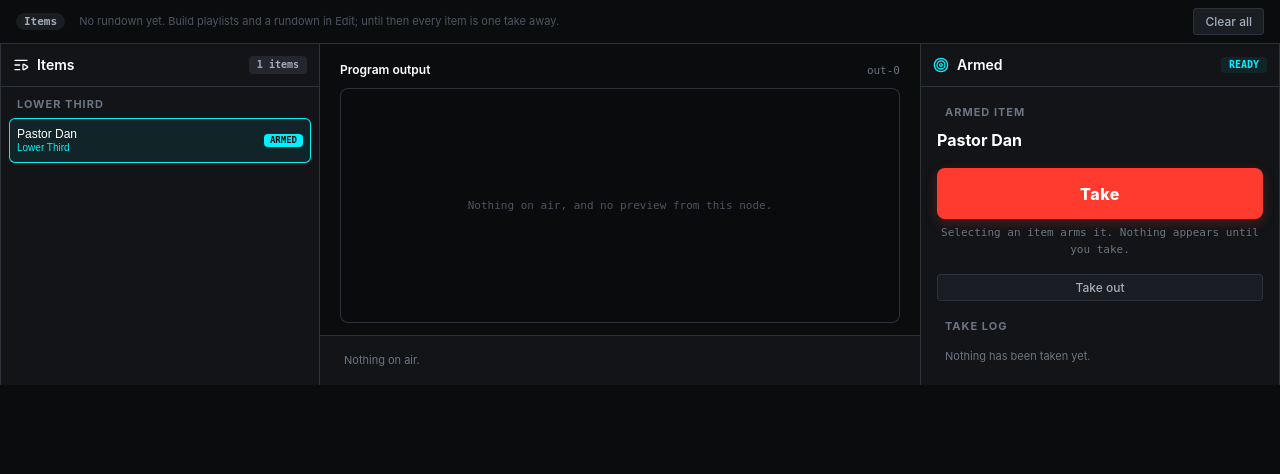
Test case: the take button › renders a 503 as the words the server sent
Click the button "Take".
click(1100, 194)  # box 937,168 -> 1263,219
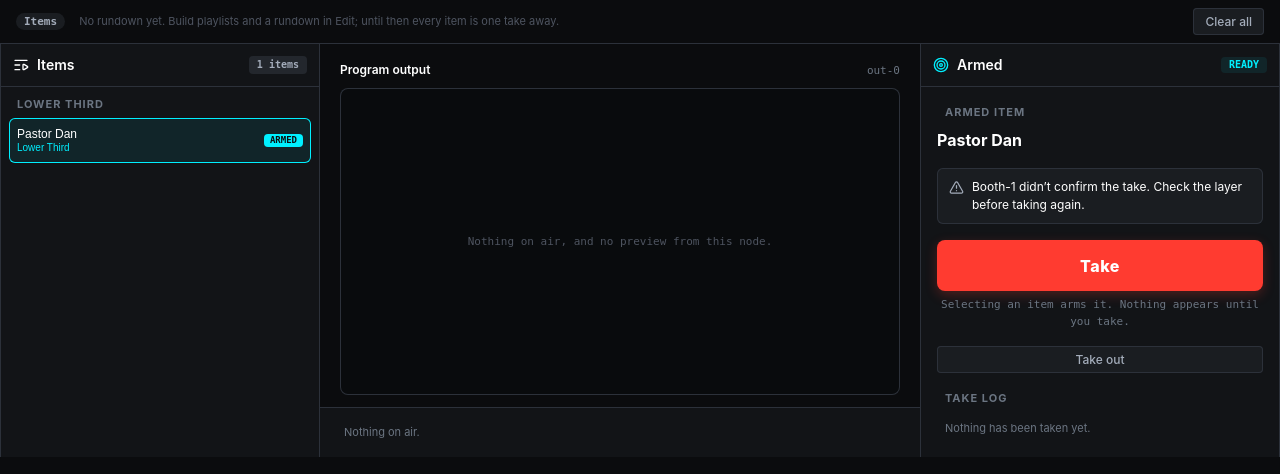
Check: the message shows "didn’t confirm the take", box 972,179 -> 1242,212
